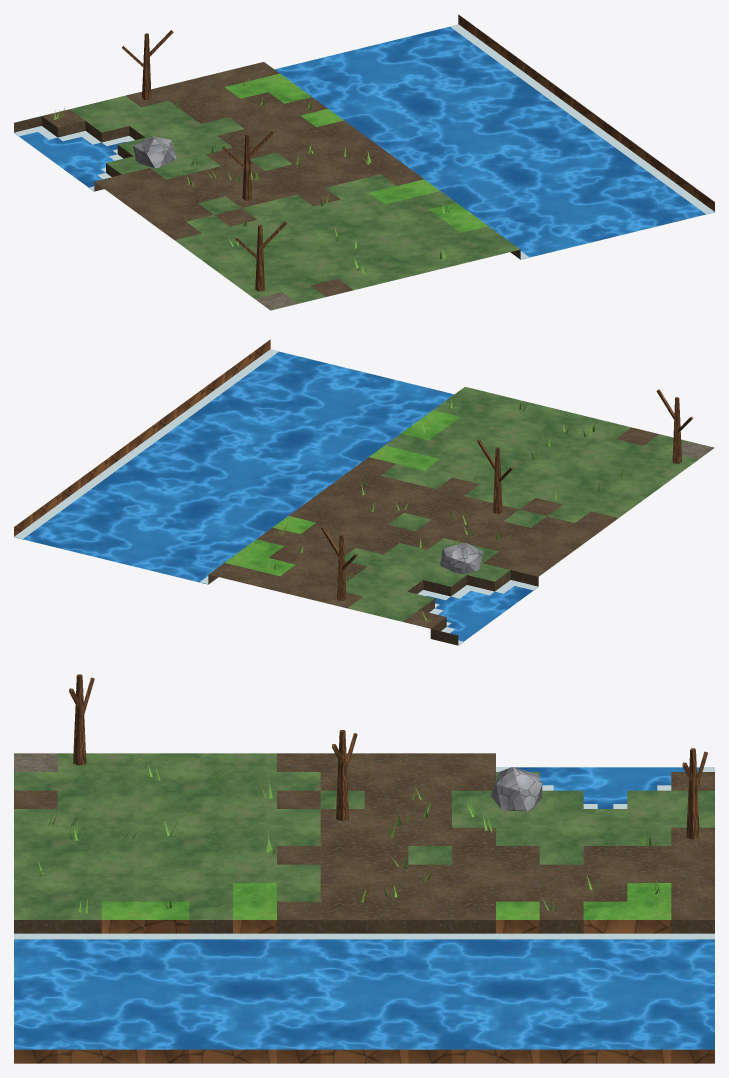
Rendered from chunk_3_18.glb.
The picture shows the model from 3 angles, top to bottom: view 1: azimuth 30°, elevation 25°; view 2: azimuth 150°, elevation 25°; view 3: azimuth 270°, elevation 25°; orthographic projection. The views are drawn at different scales.
Parts seen in each view (by area): view 1: chunk_3_18; view 2: chunk_3_18; view 3: chunk_3_18.
Boxes of the visible parts, <box> form: chunk_3_18: <box>14,14,714,310</box>; chunk_3_18: <box>14,339,714,645</box>; chunk_3_18: <box>14,674,714,1063</box>.
Size of the model in its own units: 16.24 by 2.73 by 16.
11 materials, 9 textured.
